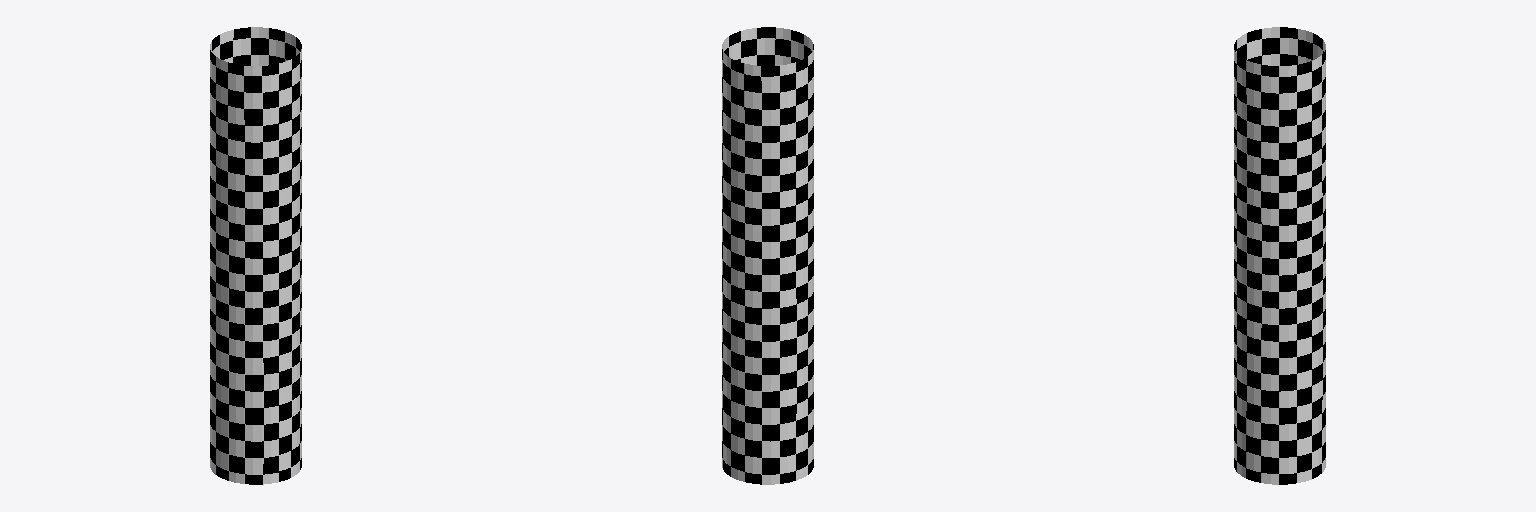
3 views of the same model, side by side, from view 1: azimuth 30°, elevation 25°; view 2: azimuth 150°, elevation 25°; view 3: azimuth 270°, elevation 25° (orthographic).
Bounding box in the file's own units: 2 × 10 × 2.
1 materials, 1 textured.